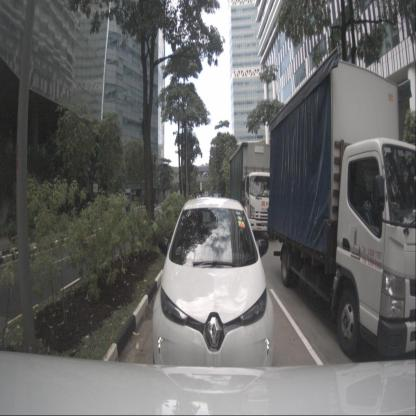vehicle-car: (152, 196, 275, 382)
vehicle-truck: (266, 45, 416, 359), (229, 142, 282, 237)
